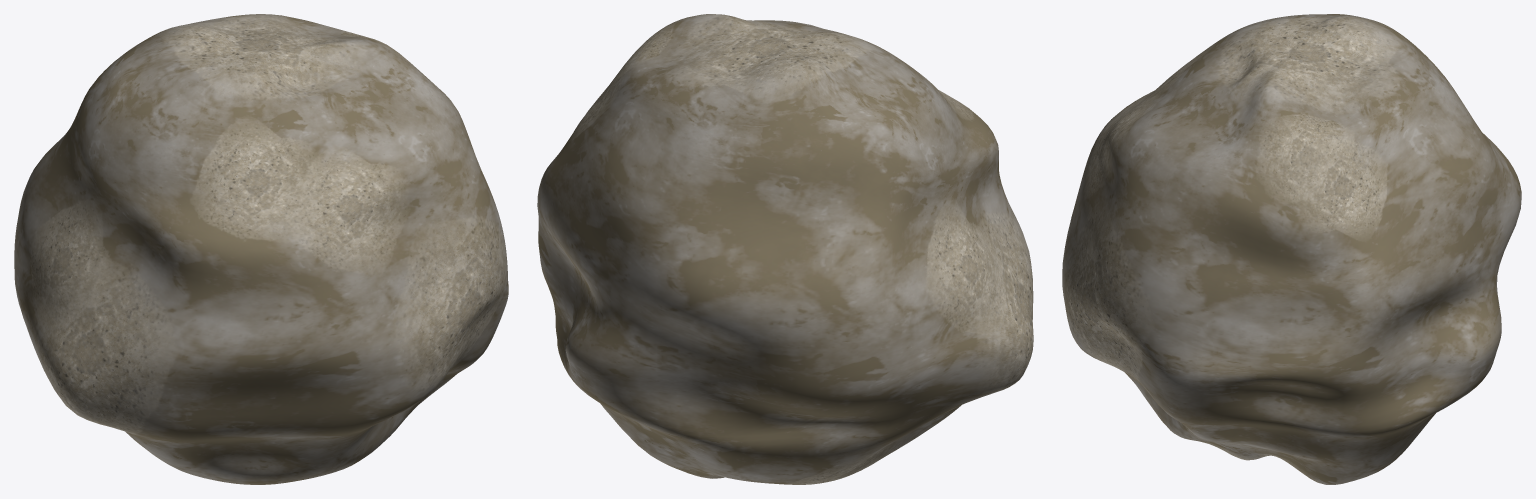
Rendered from Komet2_geshadet.fbx.
The picture shows the model from 3 angles, left to right: view 1: azimuth 30°, elevation 25°; view 2: azimuth 150°, elevation 25°; view 3: azimuth 270°, elevation 25°; orthographic projection. The views are drawn at different scales.
Visible parts, largest first — view 1: pSphere1; view 2: pSphere1; view 3: pSphere1.
Part boxes in pixels (x1,y1,x2,y2): pSphere1: (14, 14, 508, 484); pSphere1: (537, 14, 1033, 484); pSphere1: (1062, 14, 1521, 484).
Bounding box in the file's own units: 3.18 × 2.89 × 2.95.
Materials: 1 (1 with a texture image).
